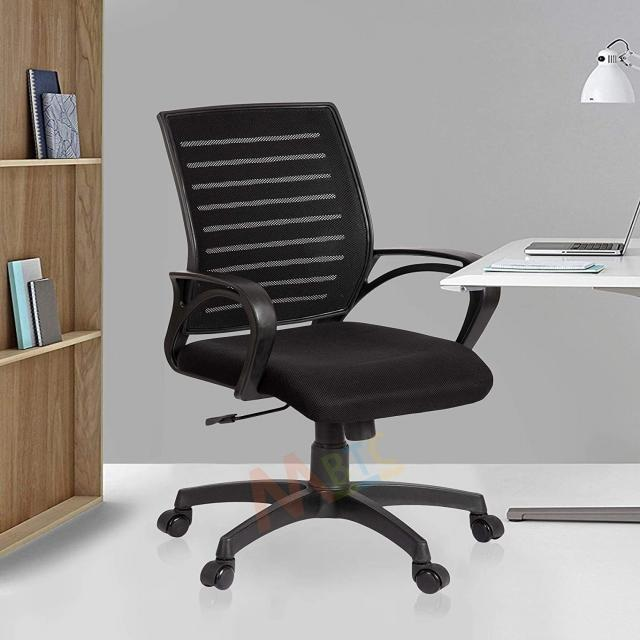chair: (148, 94, 514, 618)
